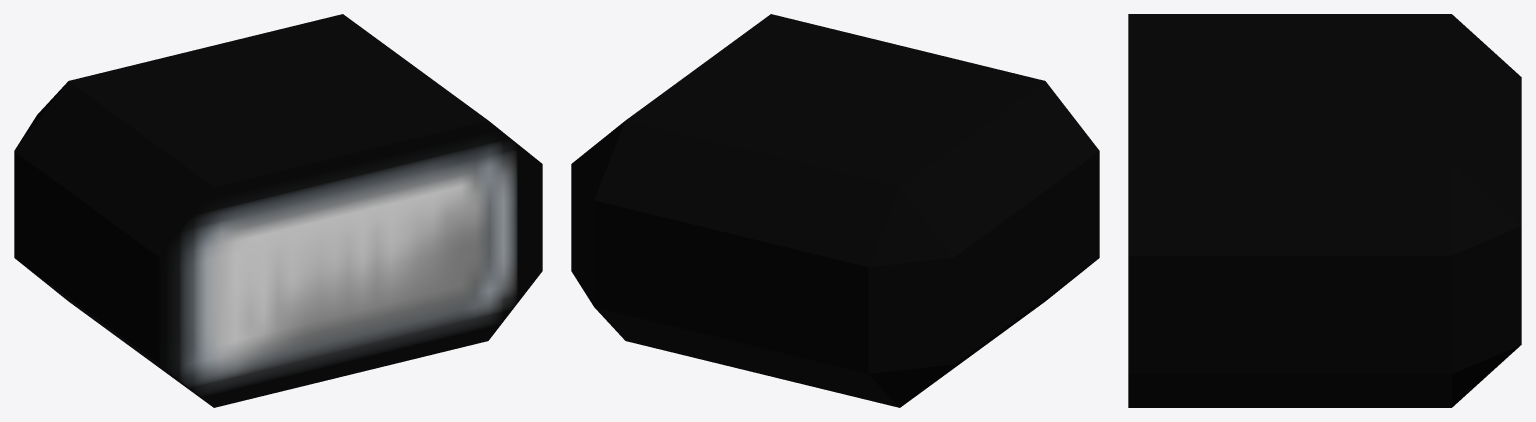
Rendered from VanBlackGib3.FBX.
3 views of the same model, side by side, from view 1: azimuth 30°, elevation 25°; view 2: azimuth 150°, elevation 25°; view 3: azimuth 270°, elevation 25° (orthographic). The views are drawn at different scales.
Parts seen in each view (by area): view 1: Object001; view 2: Object001; view 3: Object001.
Part boxes in pixels (x1,y1,x2,y2): Object001: (14,14,542,407); Object001: (571,14,1099,407); Object001: (1128,14,1521,407).
Size of the model in its own units: 4.17 by 2.29 by 3.34.
1 material, 1 textured.
